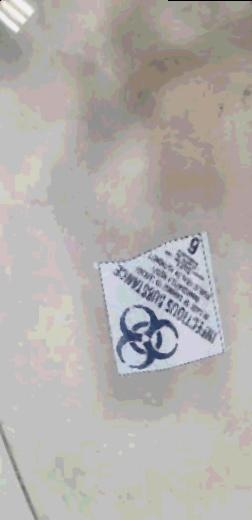infectious-substance: (95, 234, 227, 379)
